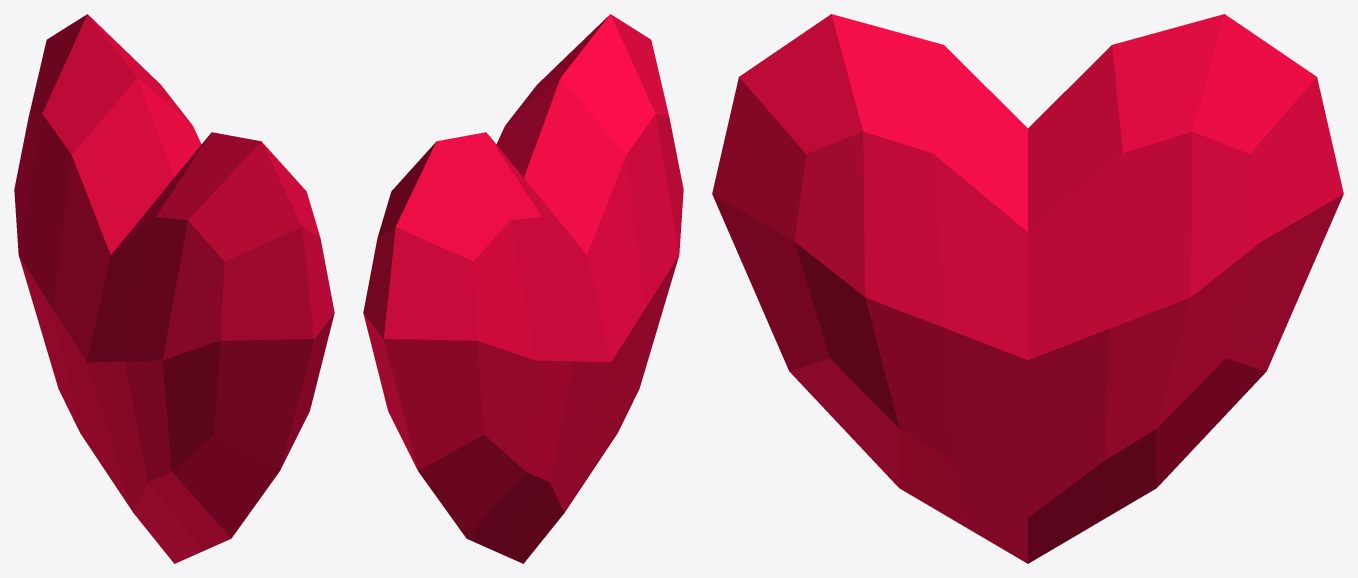
The model's file is heart.fbx.
The picture shows the model from 3 angles, left to right: view 1: azimuth 30°, elevation 25°; view 2: azimuth 150°, elevation 25°; view 3: azimuth 270°, elevation 25°; orthographic projection. The views are drawn at different scales.
Parts seen in each view (by area): view 1: Cube; view 2: Cube; view 3: Cube.
Part boxes in pixels (left/top/right/bottom): Cube: left=14, top=14, right=334, bottom=563; Cube: left=363, top=14, right=683, bottom=563; Cube: left=712, top=14, right=1343, bottom=563.
Bounding box in the file's own units: 65.96 × 175 × 182.
